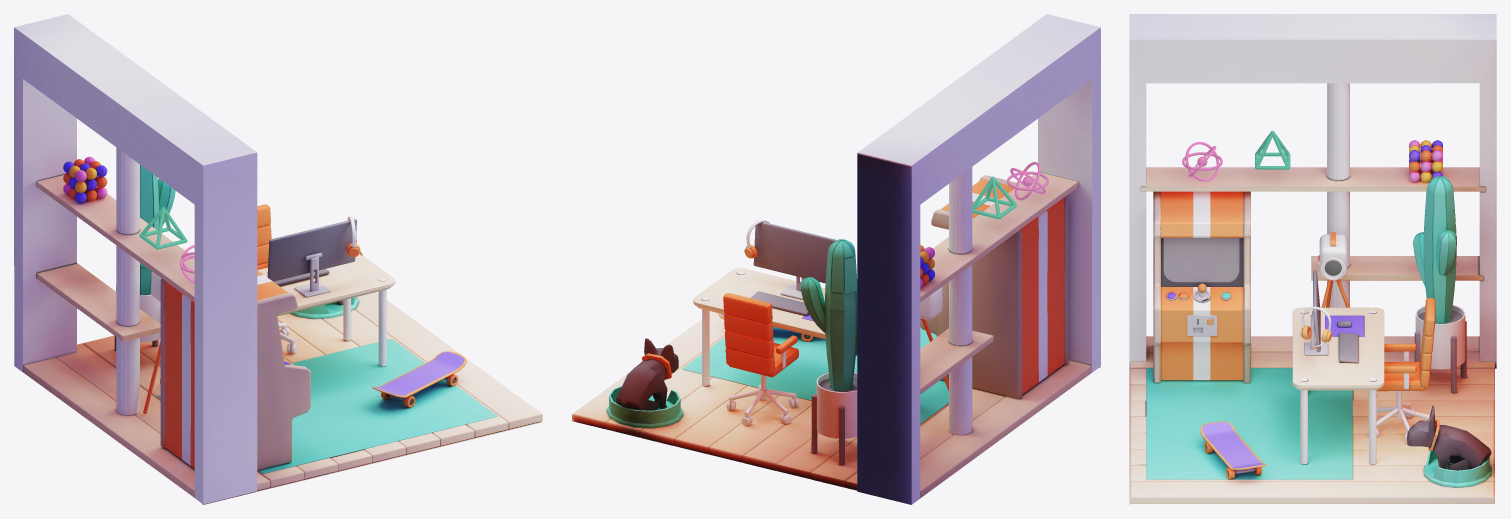
File: level-react-draco.glb
The picture shows the model from 3 angles, left to right: view 1: azimuth 30°, elevation 25°; view 2: azimuth 150°, elevation 25°; view 3: azimuth 270°, elevation 25°; orthographic projection. The views are drawn at different scales.
Visible parts, largest first — view 1: Level, Cactus, Pyramid; view 2: Level, Cactus, Sudo, Pyramid, React, SudoHead; view 3: Level, Cactus, Sudo, Camera.001, SudoHead, React, Pyramid.
Part boxes in pixels (<box>): Level: <box>14,14,542,504</box>; Cactus: <box>140,165,175,295</box>; Pyramid: <box>139,207,187,249</box>; Level: <box>572,14,1100,504</box>; Cactus: <box>800,239,857,391</box>; Sudo: <box>616,359,667,410</box>; Pyramid: <box>972,176,1016,219</box>; React: <box>1007,162,1048,200</box>; SudoHead: <box>642,338,678,379</box>; Level: <box>1129,14,1496,504</box>; Cactus: <box>1413,176,1456,323</box>; Sudo: <box>1433,425,1491,470</box>; Camera.001: <box>1318,232,1346,280</box>; SudoHead: <box>1407,405,1439,450</box>; React: <box>1182,142,1222,181</box>; Pyramid: <box>1255,130,1290,169</box>.
Bounding box in the file's own units: 2 × 1.9 × 1.92.
5 materials, 2 textured.
